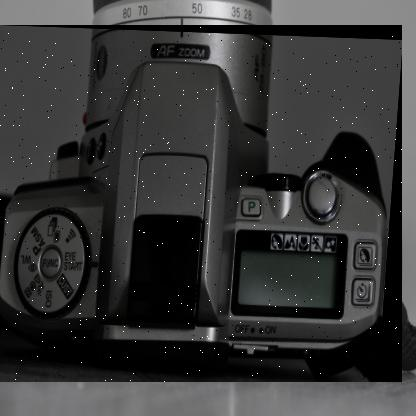Camera: (1, 26, 404, 384)
